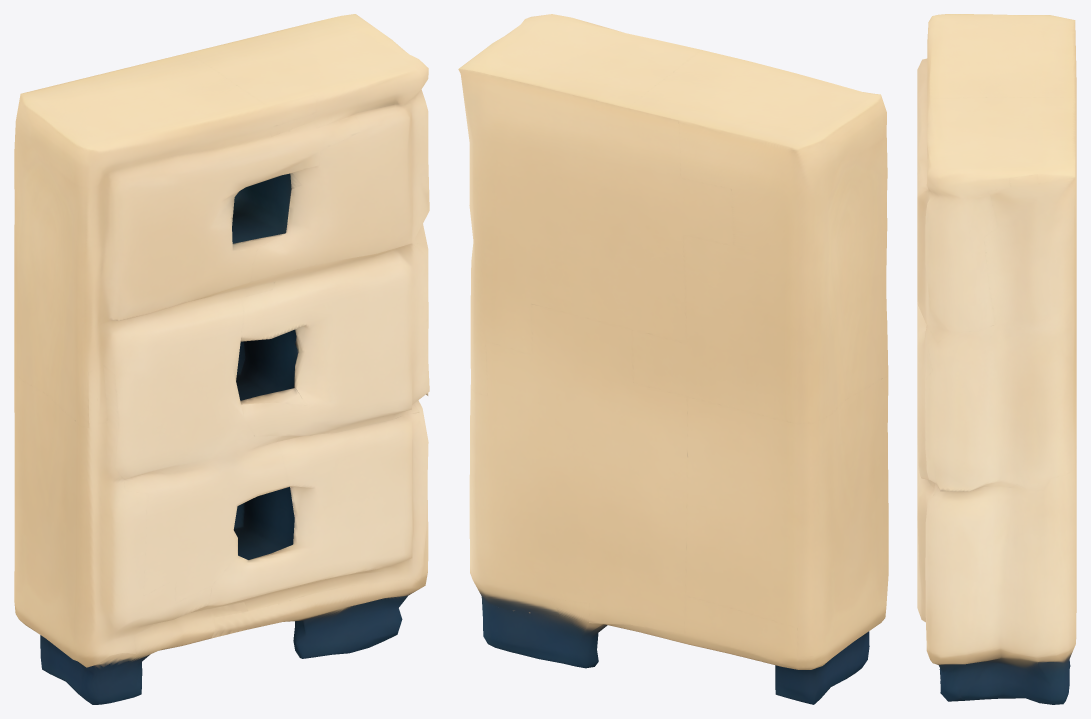
The model's file is 06-drawers.fbx.
3 views of the same model, side by side, from view 1: azimuth 30°, elevation 25°; view 2: azimuth 150°, elevation 25°; view 3: azimuth 270°, elevation 25° (orthographic). The views are drawn at different scales.
Visible parts, largest first — view 1: model; view 2: model; view 3: model.
Boxes of the visible parts, x1,y1,x2,y2 form: model: (14, 14, 429, 704); model: (458, 14, 888, 704); model: (917, 14, 1076, 704).
Bounding box in the file's own units: 123 × 189 × 50.27.
